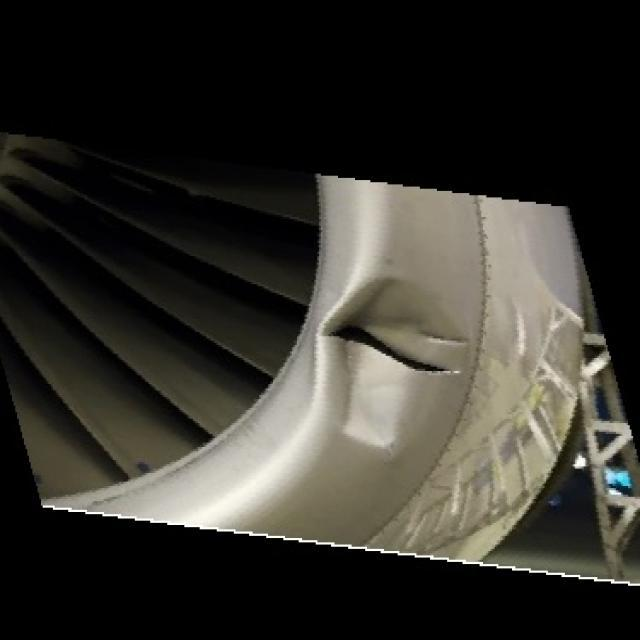crack: (322, 323, 460, 380)
